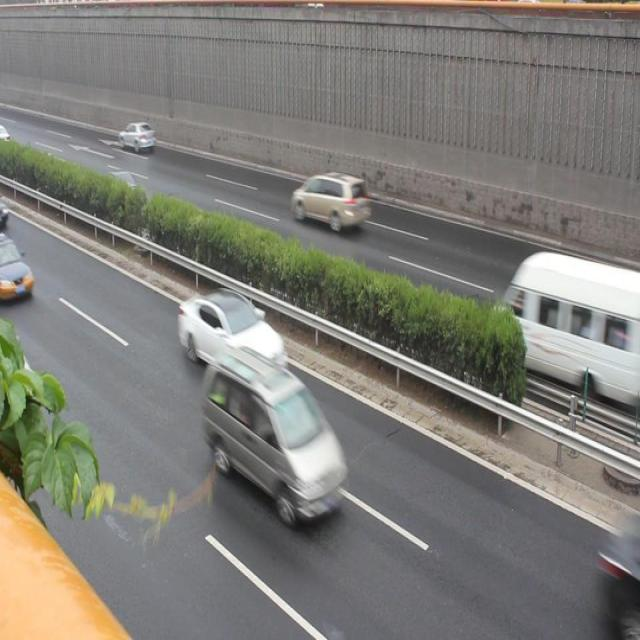car: (174, 281, 290, 386), (1, 239, 36, 307), (98, 165, 144, 207)
truck: (198, 349, 351, 526), (486, 247, 640, 398), (291, 170, 370, 235)
